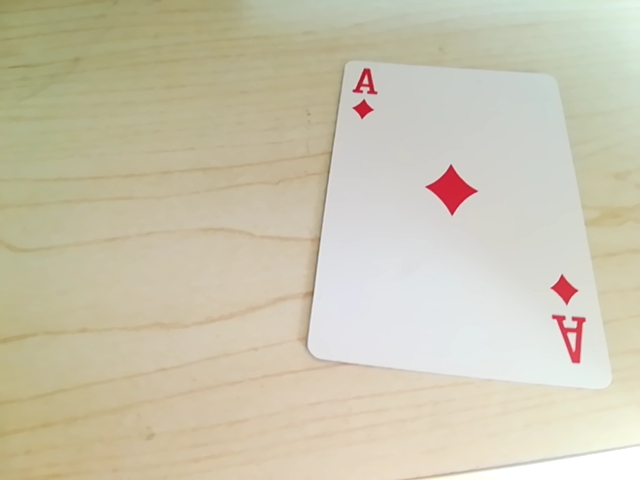fk a: (551, 284, 588, 368), (340, 62, 386, 126)
